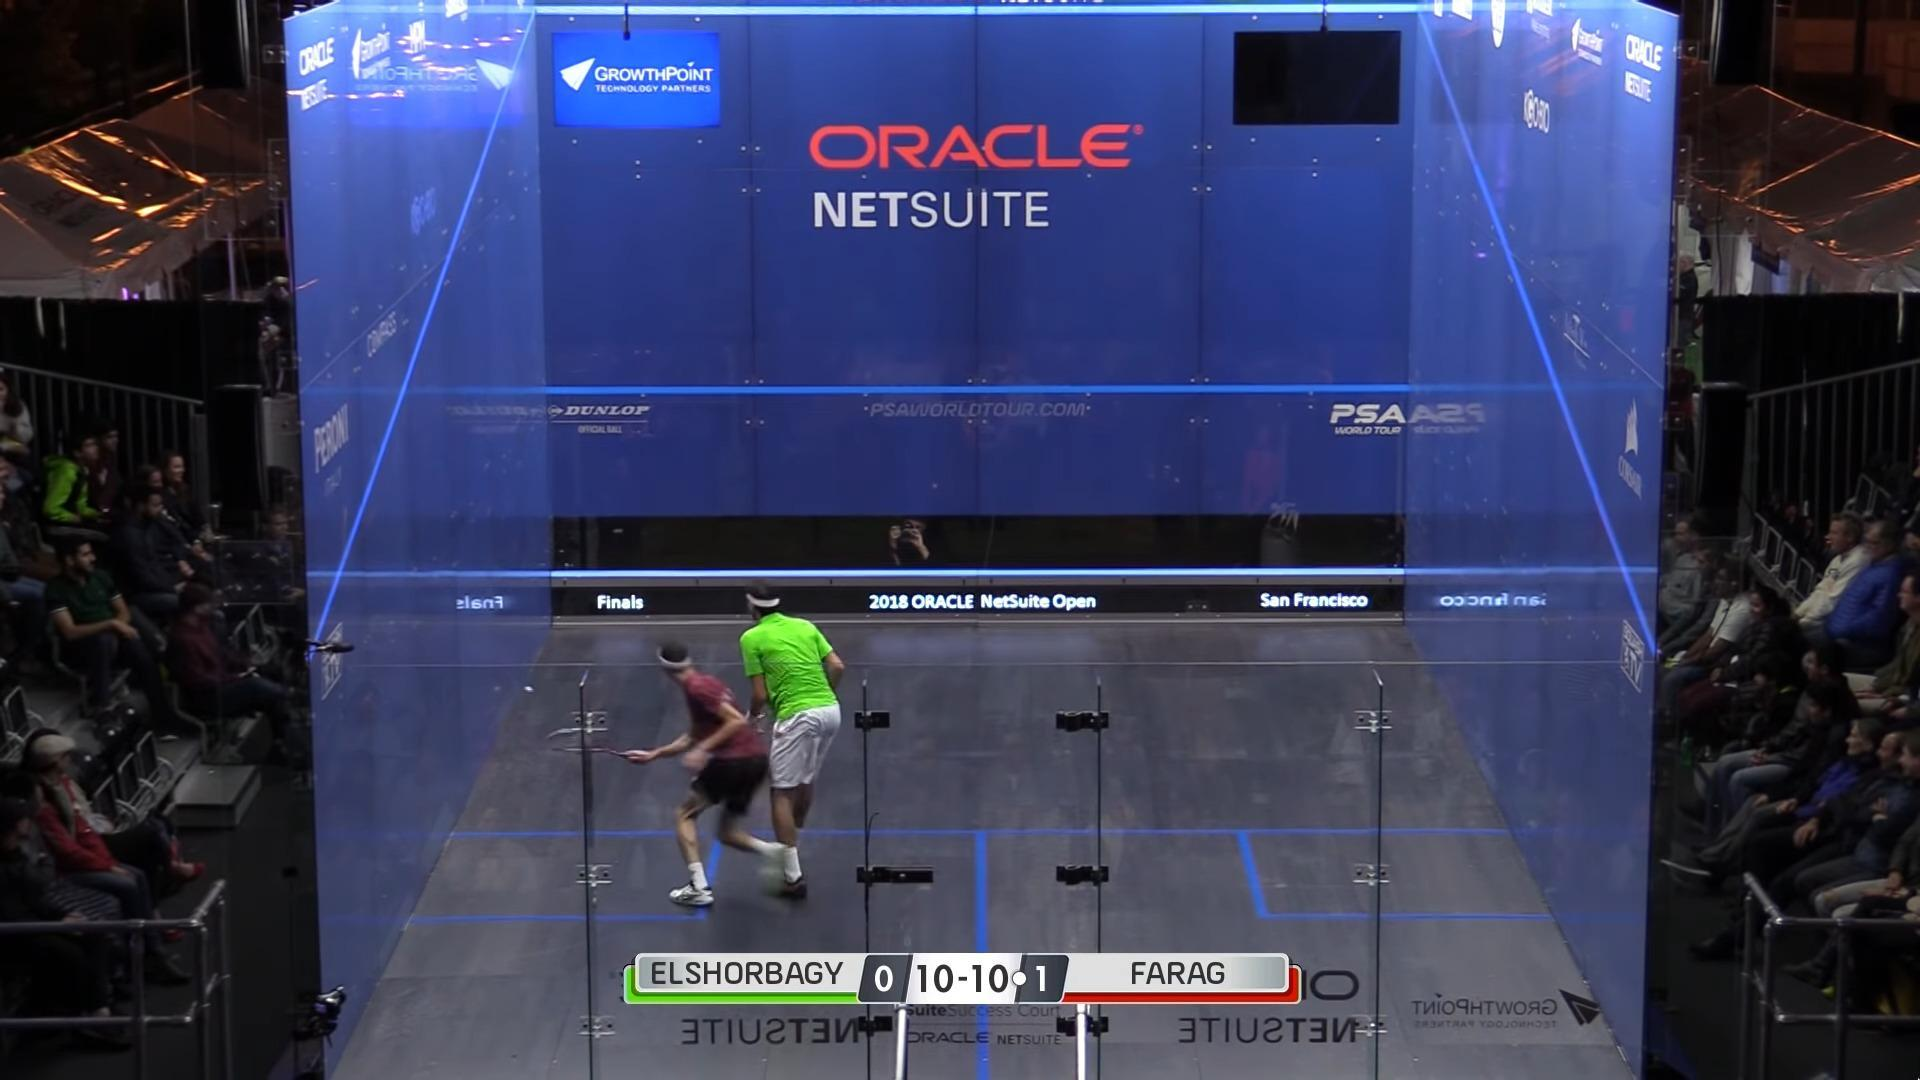Squash-Ball: (524, 682, 543, 698)
